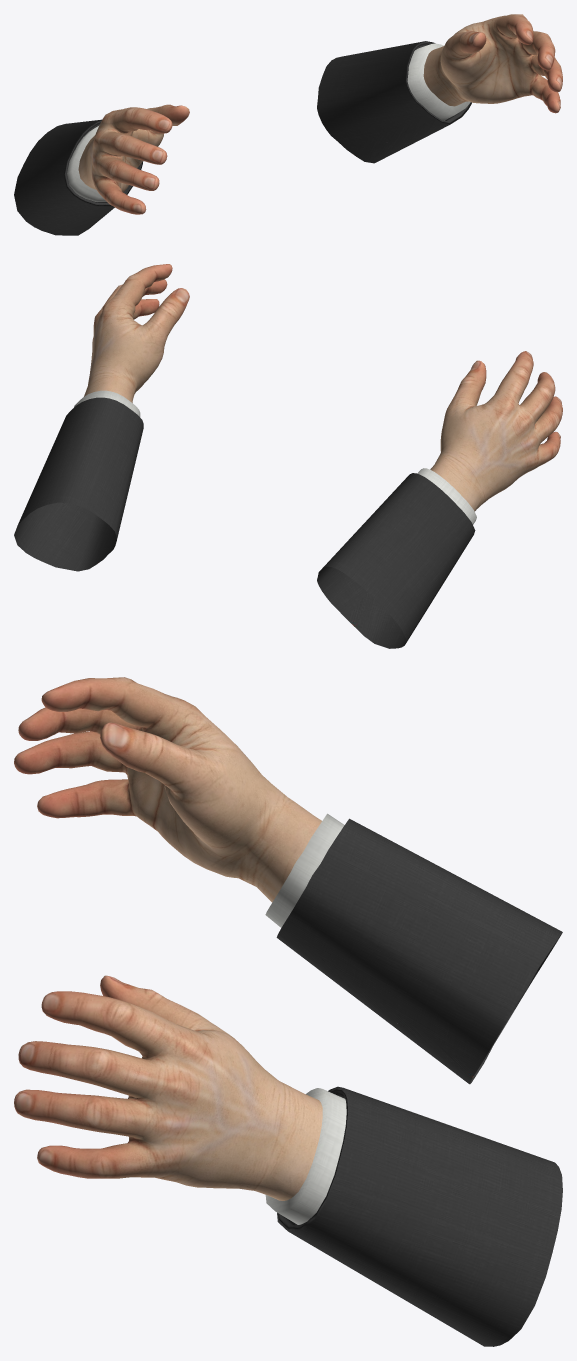
Rendered from hand.fbx.
The picture shows the model from 3 angles, top to bottom: view 1: azimuth 30°, elevation 25°; view 2: azimuth 150°, elevation 25°; view 3: azimuth 270°, elevation 25°; orthographic projection. The views are drawn at different scales.
Visible parts, largest first — view 1: handlow; view 2: handlow; view 3: handlow.
Part boxes in pixels (x1,y1,x2,y2): handlow: [14, 14, 562, 235]; handlow: [14, 264, 562, 648]; handlow: [14, 677, 562, 1346].
Size of the model in its own units: 60.79 by 27.75 by 37.19.
Materials: 1 (1 with a texture image).
